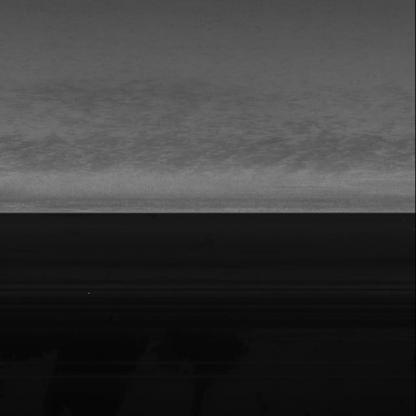silk_spot: (113, 127, 347, 180)
